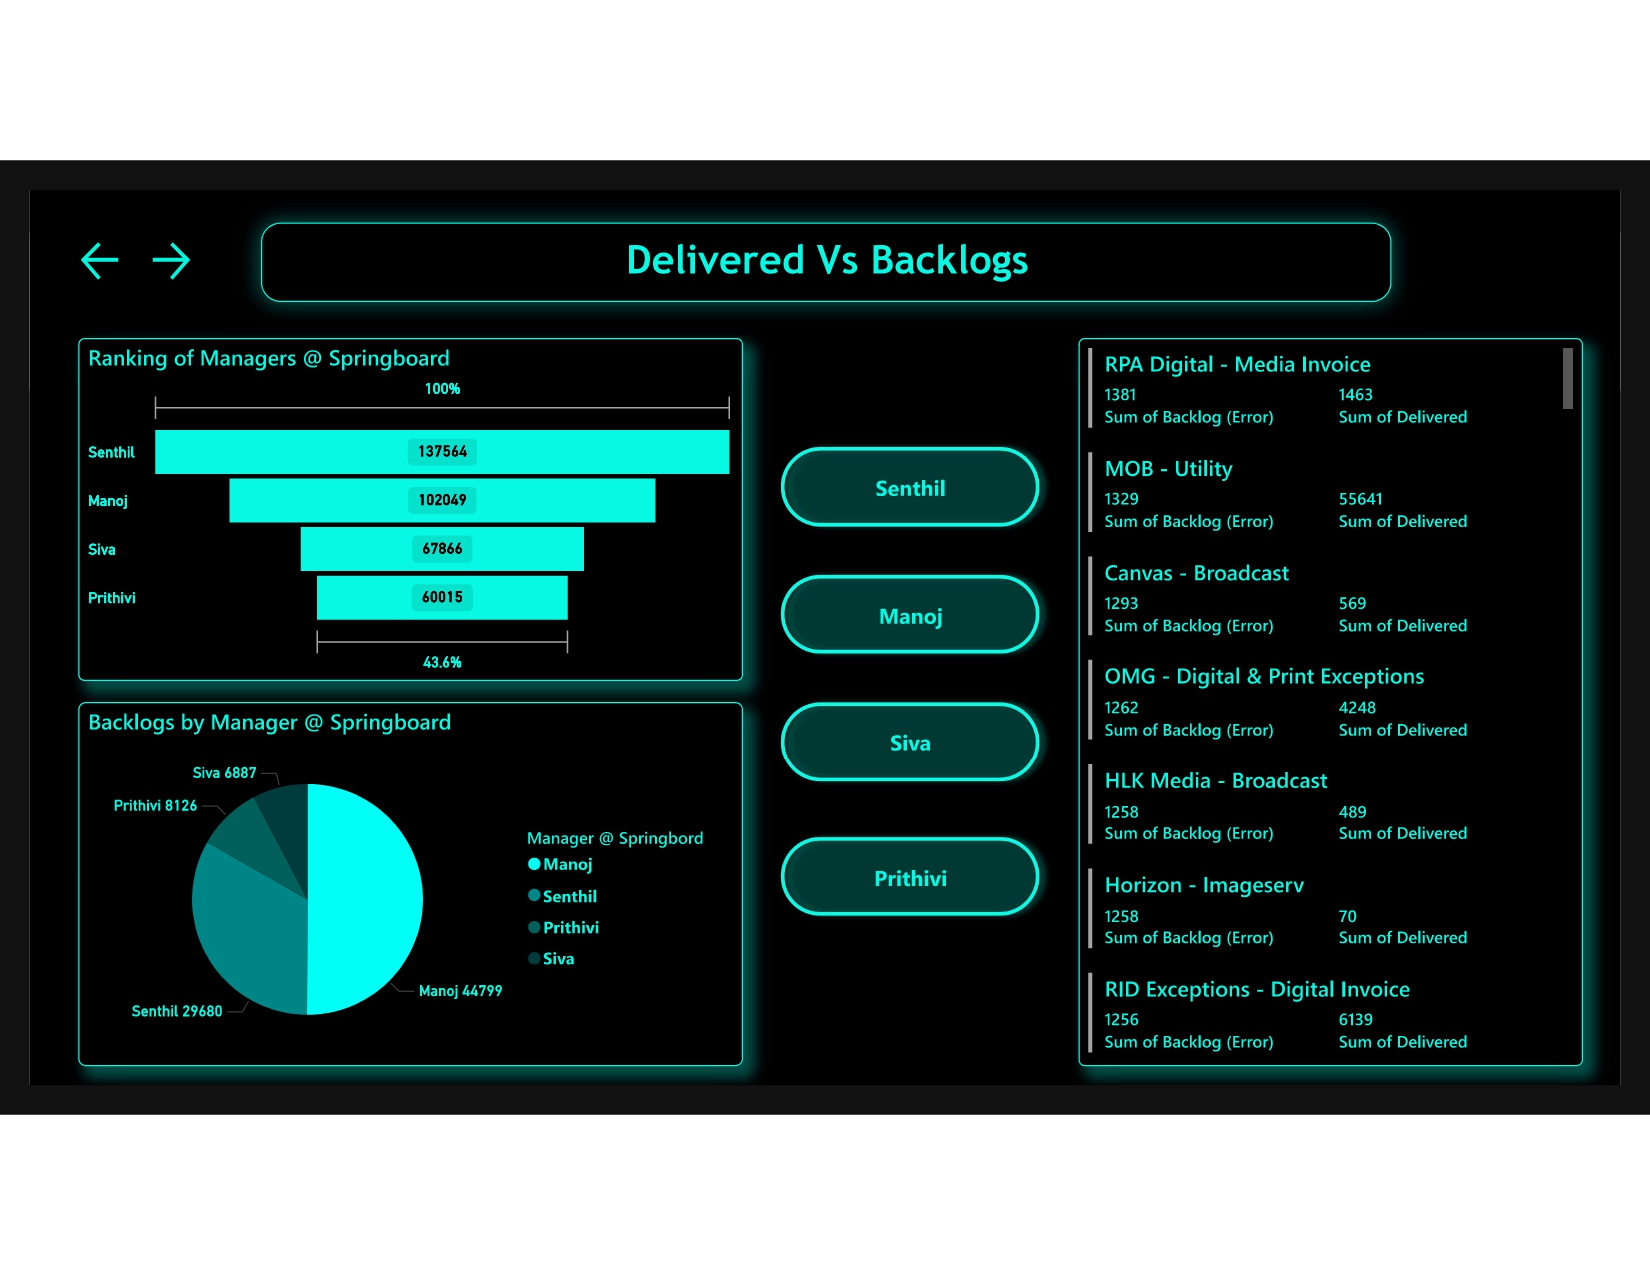

Layout of this report page (visuals, bound fields, positions):
{"tool":"powerbi","page":{"name":"Delivered Vs Backlogs","canvas":[1280,720],"ordinal":3},"visuals":[{"type":"textbox","box":[185.7,25.9,910,63.9],"z":0},{"type":"actionButton","box":[37.2,37.2,56.5,40.1],"z":0,"group":"g2"},{"type":"actionButton","box":[596,197.7,225.9,81.8],"z":0,"group":"g1"},{"type":"actionButton","box":[93.7,37.2,65.4,40.1],"z":1000,"group":"g2"},{"type":"funnel","title":"Ranking of Managers @ Springboard","fields":{"Category":["Sep.Manager @ Springbord"],"Y":["Sum(Sep.Delivered)"]},"box":[38.6,118.9,535.1,276.5],"z":1000},{"type":"actionButton","box":[596,300.3,225.9,81.8],"z":1000,"group":"g1"},{"type":"actionButton","box":[596,402.8,225.9,81.8],"z":2000,"group":"g1"},{"type":"pieChart","title":"Backlogs by Manager @ Springboard","fields":{"Y":["Sum(Sep.Backlog (Error))"],"Category":["Sep.Manager @ Springbord"]},"box":[38.6,411.7,535.1,292.8],"z":2000},{"type":"multiRowCard","fields":{"Values":["Sum(Sep.Backlog (Error))","Sum(Sep.Delivered)","Sep.Jobs"]},"box":[844.3,118.9,405.8,585.6],"z":3000},{"type":"actionButton","box":[596,511.3,225.9,81.8],"z":3000,"group":"g1"},{"type":"group","id":"g1","title":"Group 1","box":[596,197.7,225.9,395.4],"z":4000},{"type":"group","id":"g2","title":"Group 1","box":[37.2,37.2,121.9,40.1],"z":4001}]}

Visuals, with their boxes on the page's 1280x720 design canvas (x1, y1, x2, y2). These are canvas units, not pixel positions in the 1650x1275 screenshot, which may show the page scaled, cropped or inside an application window:
textbox: bbox(186, 26, 1096, 90)
actionButton: bbox(37, 37, 94, 77)
actionButton: bbox(596, 198, 822, 280)
actionButton: bbox(94, 37, 159, 77)
"Ranking of Managers @ Springboard" funnel: bbox(39, 119, 574, 395)
actionButton: bbox(596, 300, 822, 382)
actionButton: bbox(596, 403, 822, 485)
"Backlogs by Manager @ Springboard" pieChart: bbox(39, 412, 574, 704)
multiRowCard - Sum(Sep.Backlog (Error)) x Sum(Sep.Delivered): bbox(844, 119, 1250, 704)
actionButton: bbox(596, 511, 822, 593)
"Group 1" group: bbox(596, 198, 822, 593)
"Group 1" group: bbox(37, 37, 159, 77)
